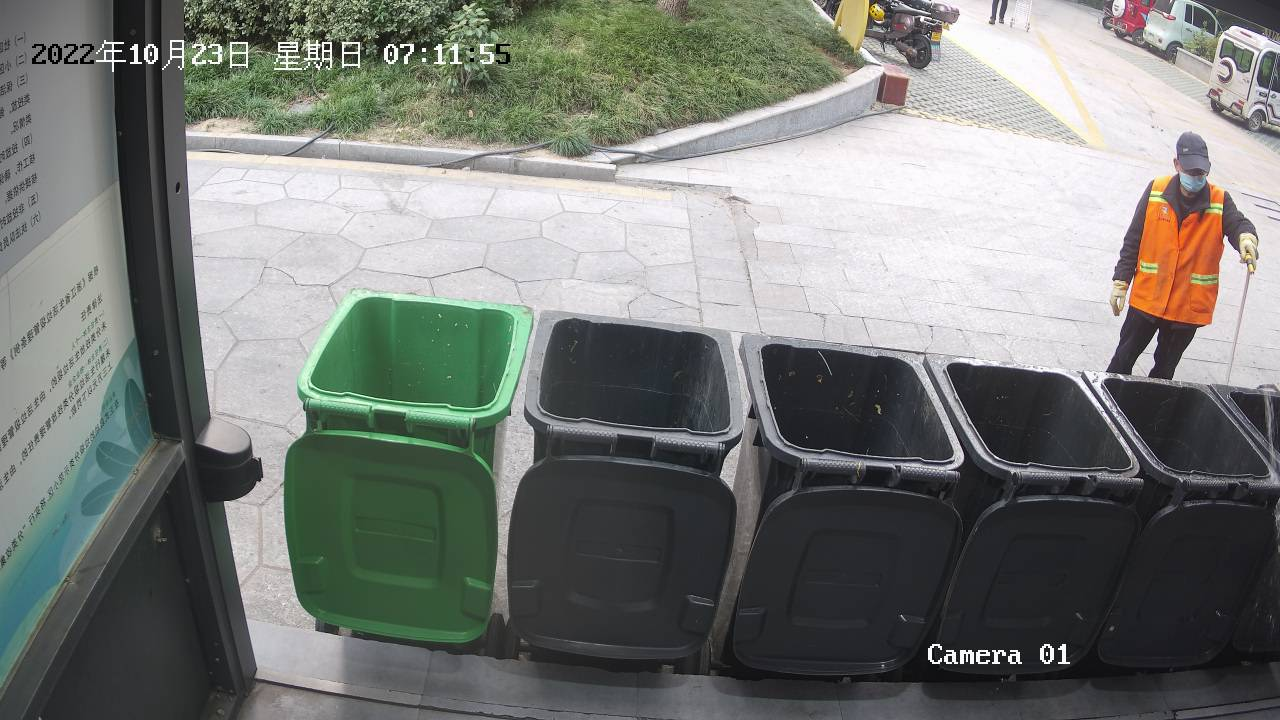worker: (1103, 127, 1265, 387)
